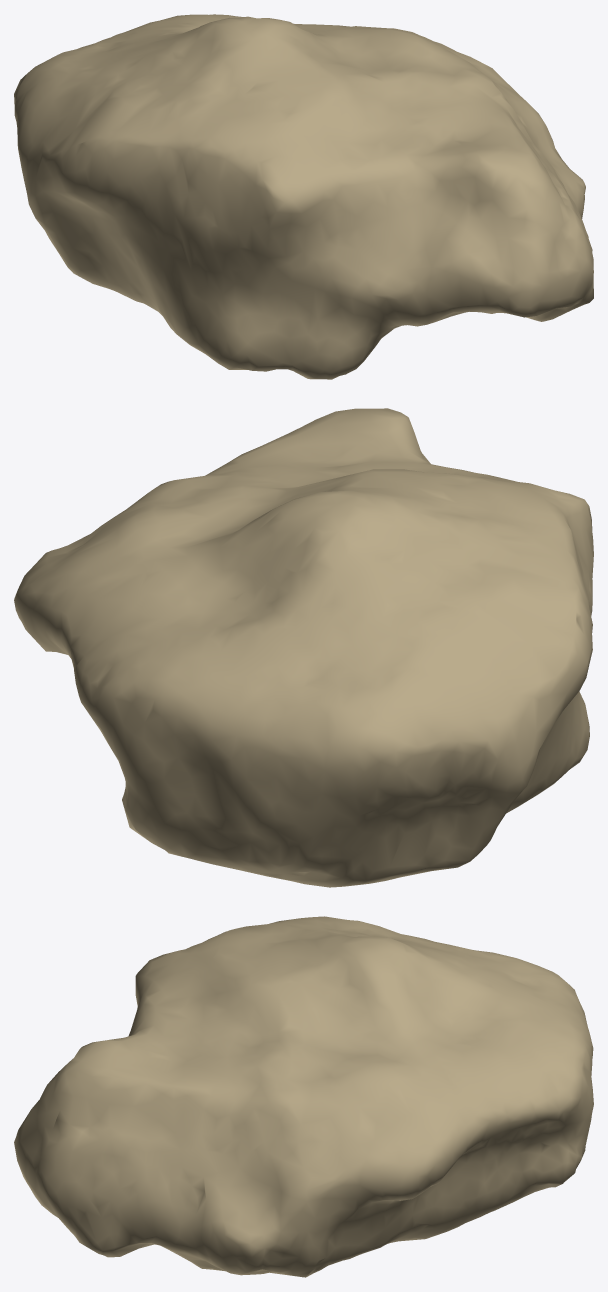
File: rock19_low.fbx
3 renders of one model, top to bottom at view 1: azimuth 30°, elevation 25°; view 2: azimuth 150°, elevation 25°; view 3: azimuth 270°, elevation 25°, orthographic. The views are drawn at different scales.
Visible parts, largest first — view 1: rock19_low; view 2: rock19_low; view 3: rock19_low.
Boxes of the visible parts, x1,y1,x2,y2 form: rock19_low: (14, 14, 593, 379); rock19_low: (14, 408, 593, 887); rock19_low: (14, 916, 593, 1277).
Bounding box in the file's own units: 0.9023 × 0.4865 × 1.
